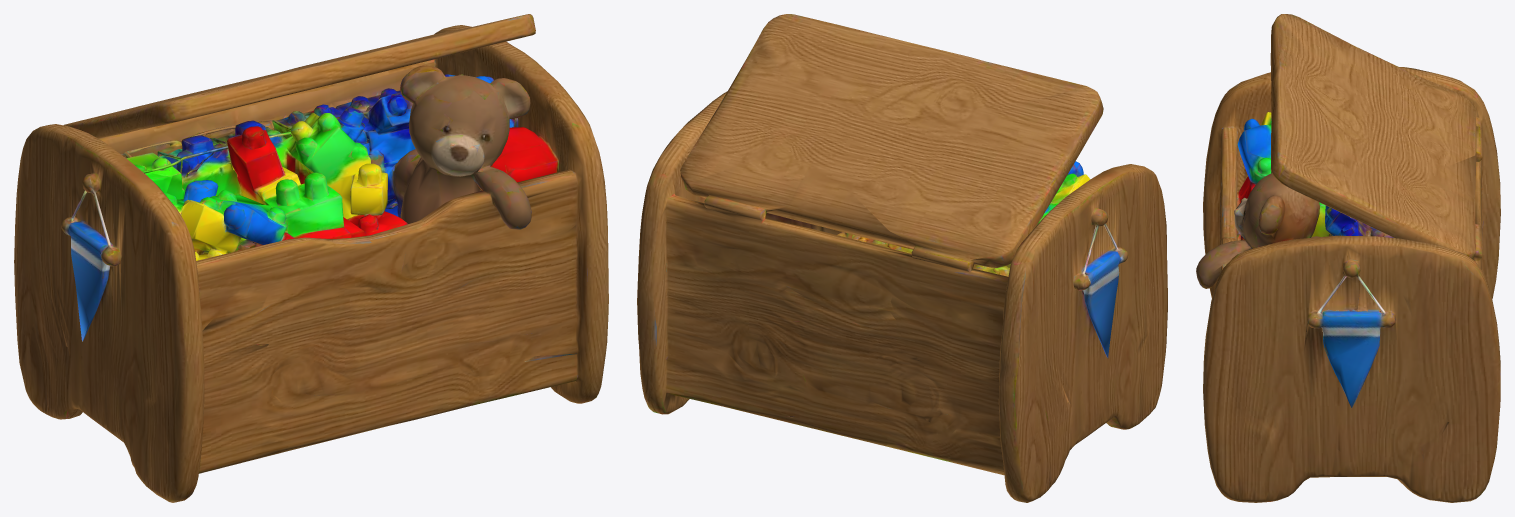
File: chest.glb
3 renders of one model, left to right at view 1: azimuth 30°, elevation 25°; view 2: azimuth 150°, elevation 25°; view 3: azimuth 270°, elevation 25°, orthographic. The views are drawn at different scales.
Visible parts, largest first — view 1: Mesh_0; view 2: Mesh_0; view 3: Mesh_0.
Boxes of the visible parts, x1=… form: Mesh_0: x1=14, y1=14, x2=608, y2=502; Mesh_0: x1=637, y1=14, x2=1167, y2=502; Mesh_0: x1=1196, y1=14, x2=1500, y2=502.
Bounding box in the file's own units: 1.91 × 1.5 × 1.26.
1 material, 1 textured.
